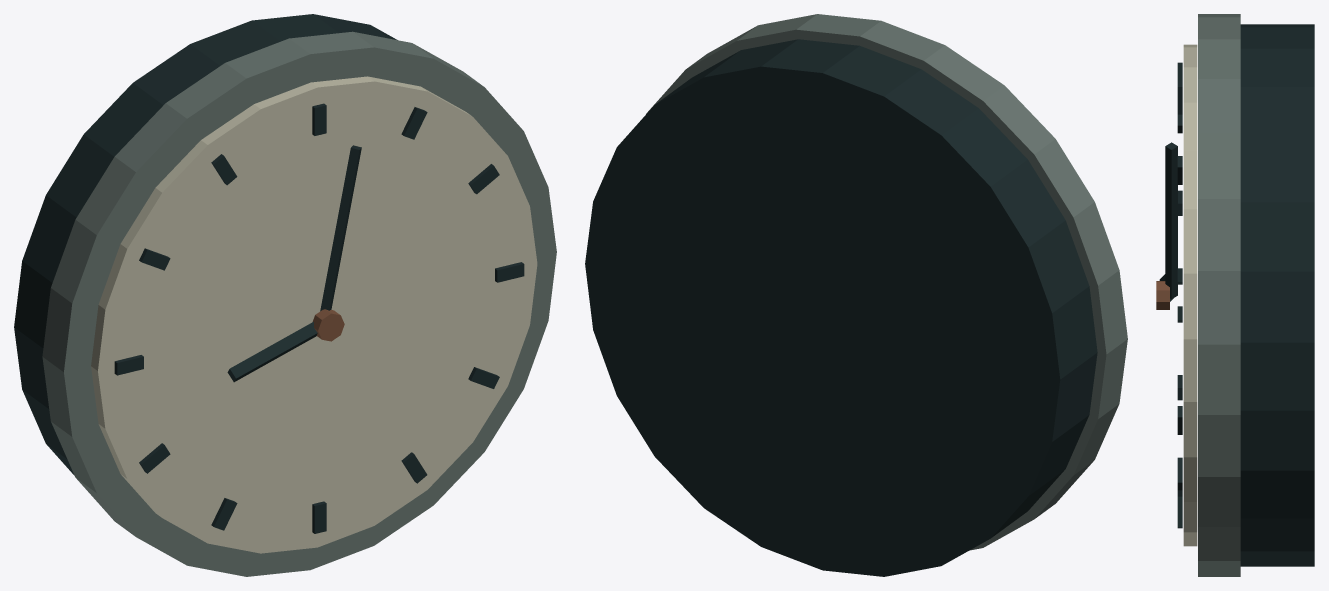
File: wall-clock.glb
3 renders of one model, left to right at view 1: azimuth 30°, elevation 25°; view 2: azimuth 150°, elevation 25°; view 3: azimuth 270°, elevation 25°, orthographic.
Parts seen in each view (by area): view 1: wall-clock; view 2: wall-clock; view 3: wall-clock.
Boxes of the visible parts, left/top/right/bottom form: wall-clock: left=14, top=14, right=556, bottom=576; wall-clock: left=585, top=14, right=1127, bottom=576; wall-clock: left=1156, top=14, right=1314, bottom=576.
Size of the model in its own units: 0.332 by 0.332 by 0.093.
